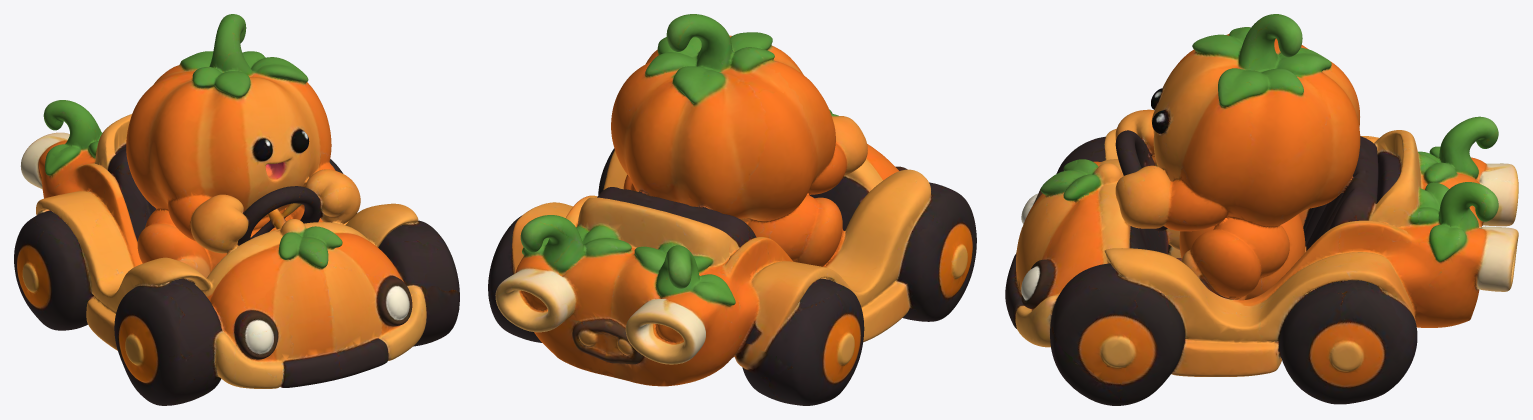
File: pumpkin.glb
The picture shows the model from 3 angles, left to right: view 1: azimuth 30°, elevation 25°; view 2: azimuth 150°, elevation 25°; view 3: azimuth 270°, elevation 25°; orthographic projection. The views are drawn at different scales.
Bounding box in the file's own units: 1.48 × 1.33 × 1.9.
1 material, 1 textured.
